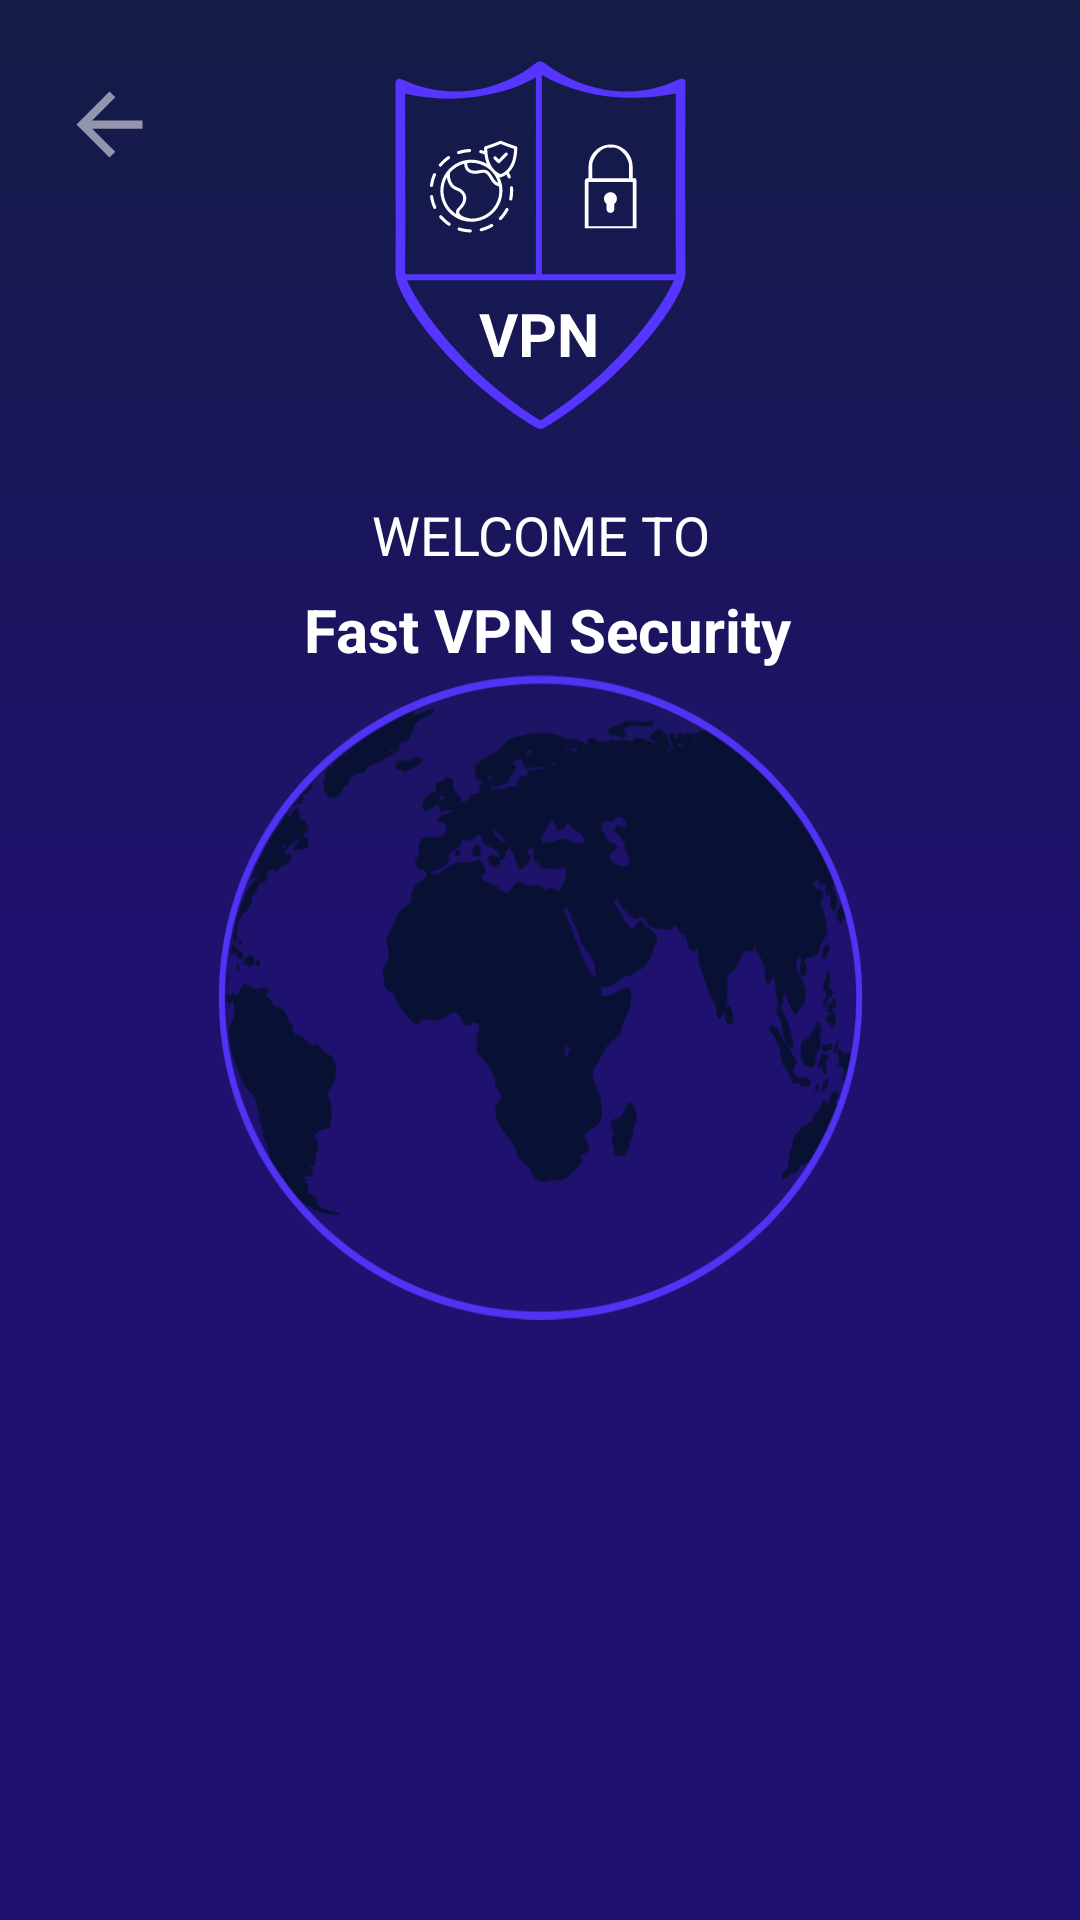

Where icons sit on this 1080*1920 app screen, as [x1=x1, y1=y1, x2=x2, y2=y2]:
back: [x1=76, y1=91, x2=143, y2=158]
